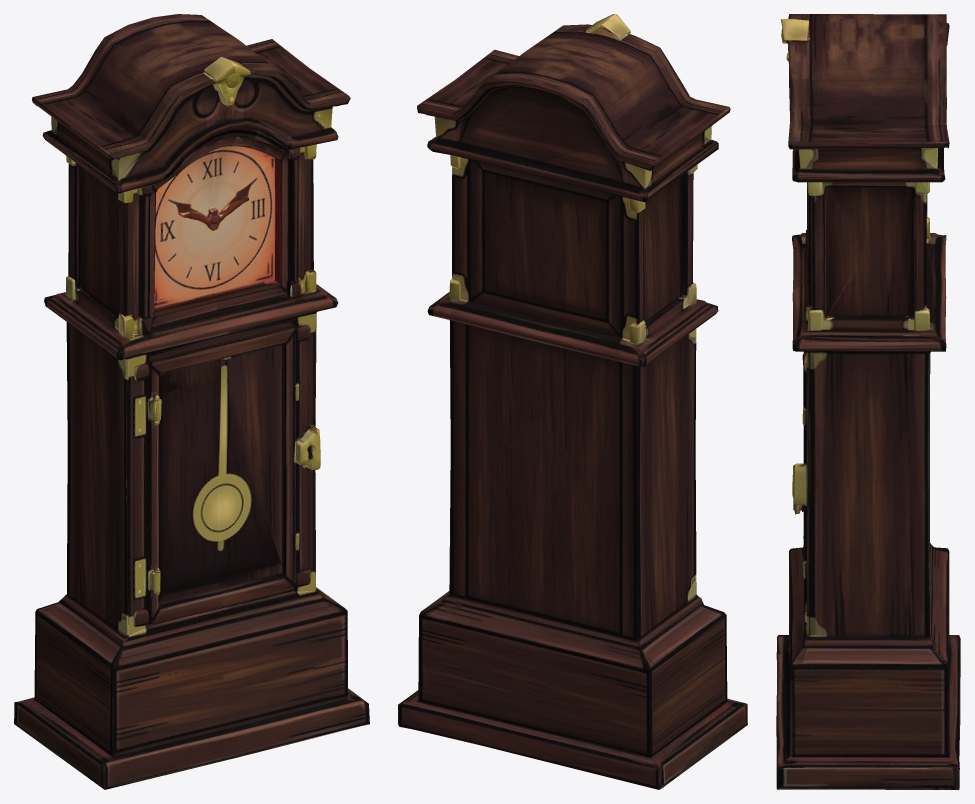
File: grandfather_clock.glb
3 renders of one model, left to right at view 1: azimuth 30°, elevation 25°; view 2: azimuth 150°, elevation 25°; view 3: azimuth 270°, elevation 25°, orthographic. The views are drawn at different scales.
Size of the model in its own units: 0.4043 by 1 by 0.2368.
Materials: 1 (1 with a texture image).
